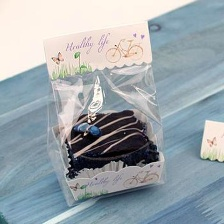snack: (33, 14, 171, 209)
